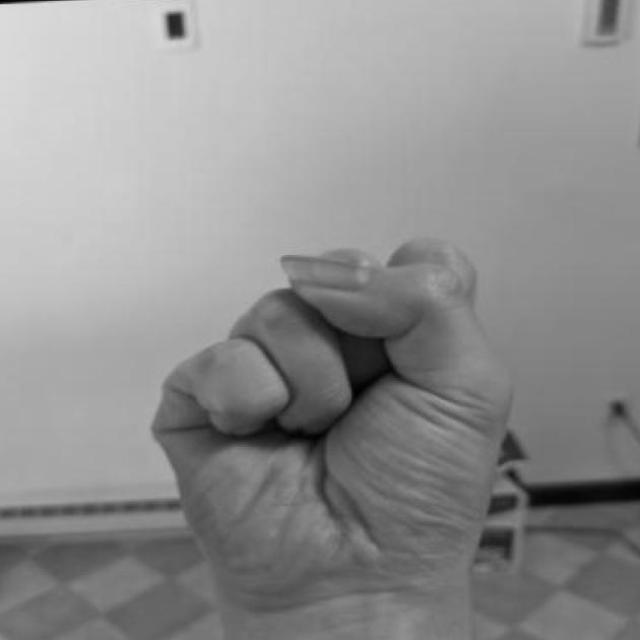S: (143, 220, 543, 639)
